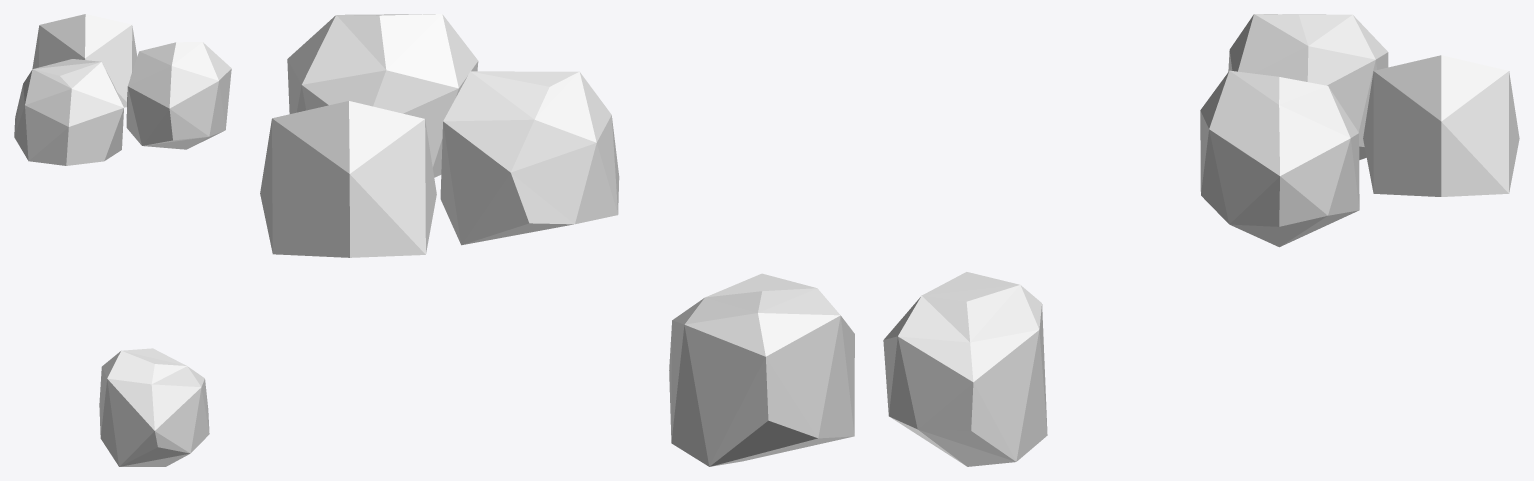
Rendered from Papeis Amassados.FBX.
3 views of the same model, side by side, from view 1: azimuth 30°, elevation 25°; view 2: azimuth 150°, elevation 25°; view 3: azimuth 270°, elevation 25° (orthographic). The views are drawn at different scales.
Visible parts, largest first — view 1: GeoSphere006, GeoSphere005, GeoSphere004, GeoSphere002; view 2: GeoSphere006, GeoSphere005, GeoSphere002, GeoSphere004; view 3: GeoSphere006, GeoSphere004, GeoSphere002, GeoSphere005.
Boxes of the visible parts, x1,y1,x2,y2 form: GeoSphere006: (99, 348, 209, 466); GeoSphere005: (14, 59, 123, 165); GeoSphere004: (126, 42, 231, 149); GeoSphere002: (32, 14, 137, 107); GeoSphere006: (669, 273, 854, 466); GeoSphere005: (440, 71, 619, 245); GeoSphere002: (260, 101, 436, 257); GeoSphere004: (287, 14, 478, 177); GeoSphere006: (883, 272, 1047, 466); GeoSphere004: (1200, 70, 1359, 247); GeoSphere002: (1363, 55, 1519, 196); GeoSphere005: (1228, 14, 1388, 159).
Bounding box in the file's own units: 135 × 179 × 218.
